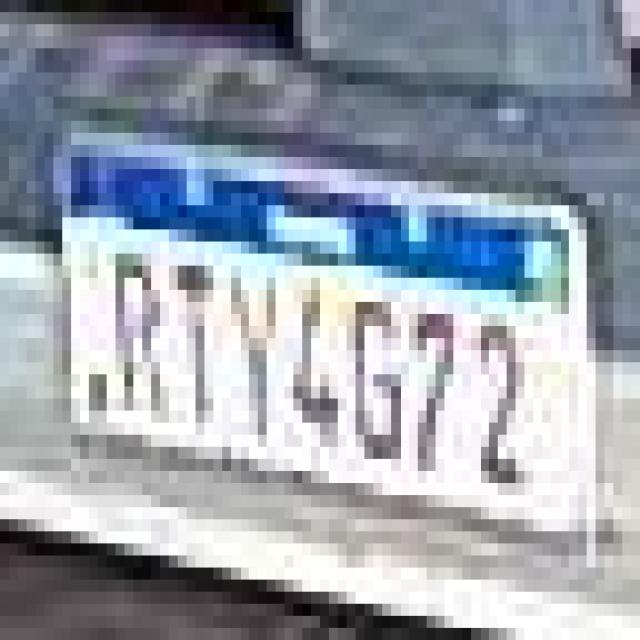4: (295, 272, 343, 460)
7: (410, 280, 461, 499)
G: (353, 287, 409, 494)
R: (78, 248, 168, 444)
T: (175, 243, 217, 453)
Y: (220, 258, 290, 460)
